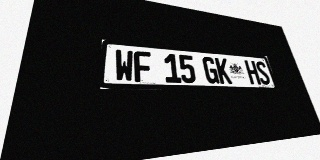1: (163, 53, 182, 83)
5: (178, 54, 197, 83)
F: (134, 51, 153, 82)
G: (202, 56, 220, 84)
H: (244, 60, 261, 85)
K: (215, 57, 232, 84)
S: (254, 61, 272, 85)
W: (115, 49, 134, 82)
